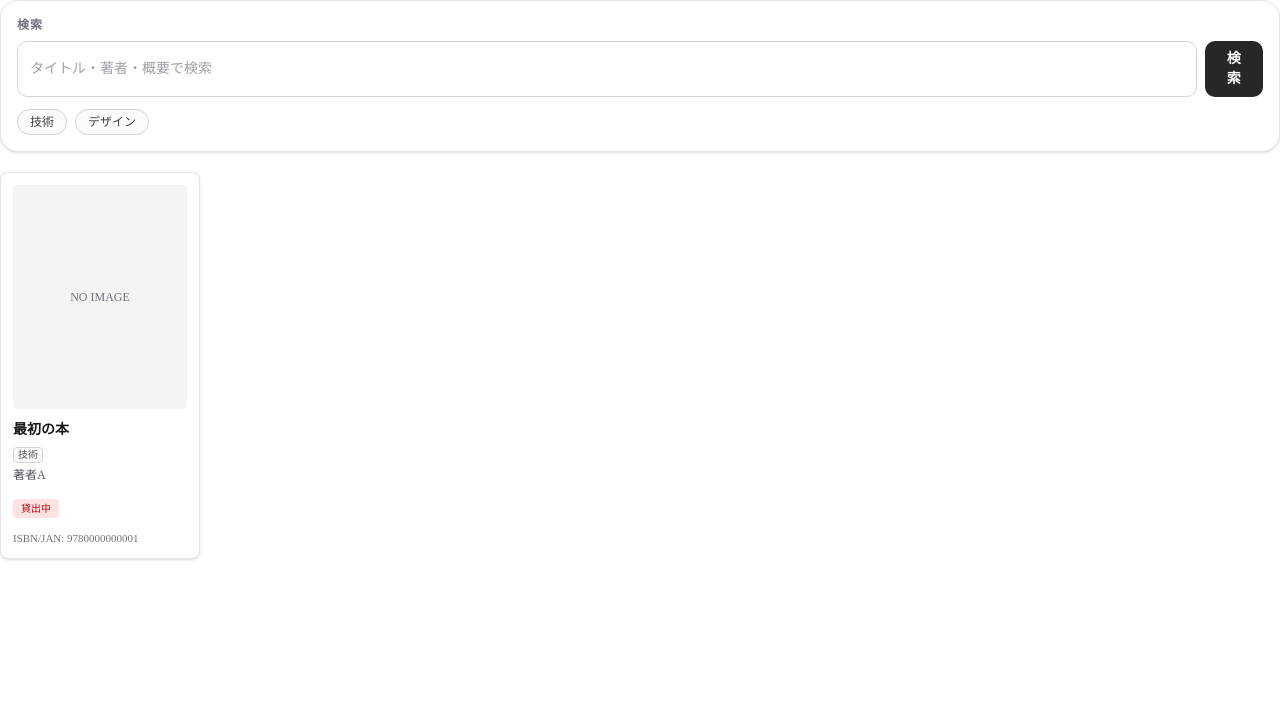
Scenario: BookListClient › 自由文とジャンルIDを別々のAPIへ送り、結果を重複排除してログ保存する
Step 1. Click the button "技術" → click(42, 122), box [17,109,67,135]
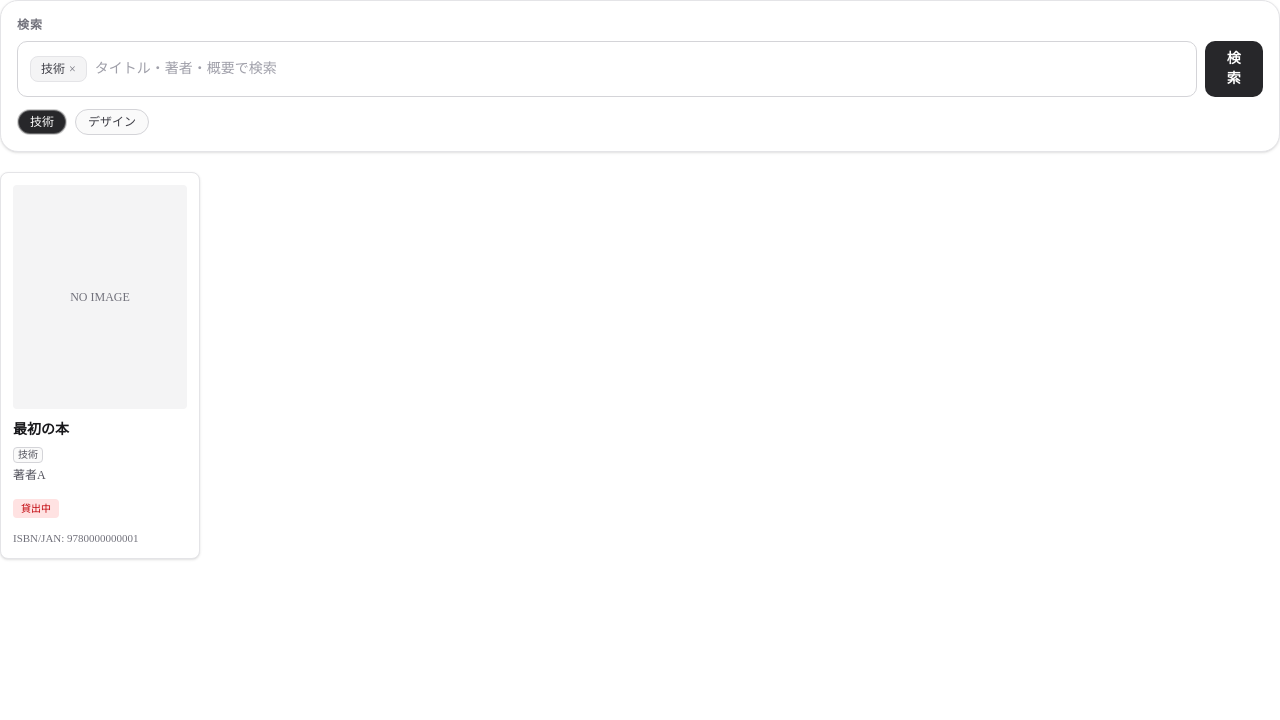
Step 2. Type "  React 入門  " into the field labelled "検索" → (639, 69), box [95,59,1184,79]
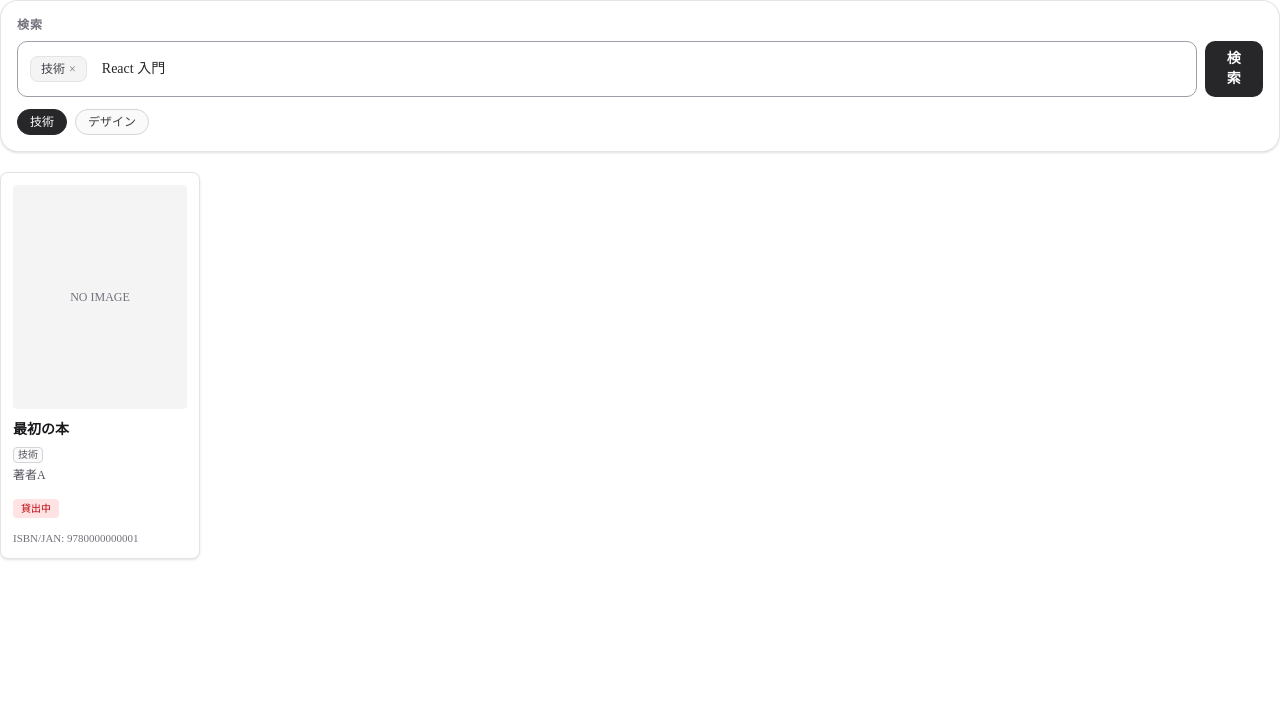
Step 3. Click the button "検索" → click(1234, 69), box [1204,41,1263,97]
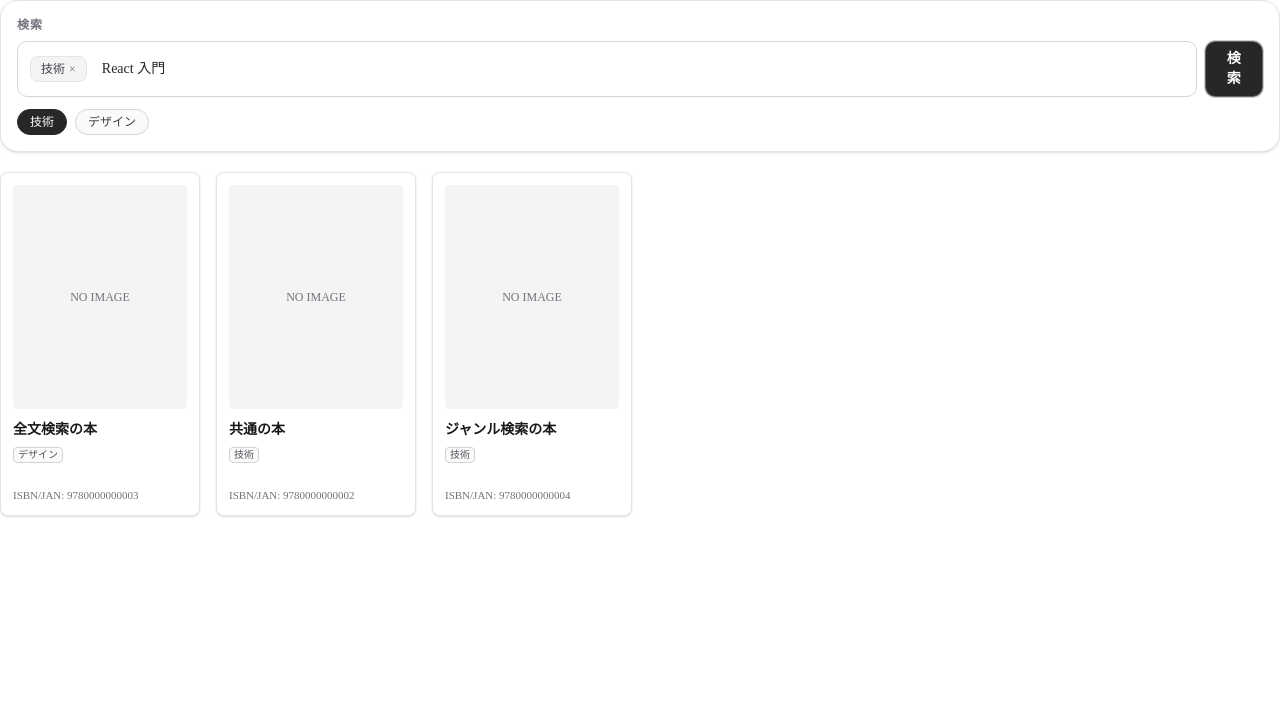
expect the heading "全文検索の本" is shown: met, box [13,422,97,437]
expect the number of headings "共通の本" is 1: met, box [229,422,285,437]
expect the heading "ジャンル検索の本" is shown: met, box [445,422,556,437]
